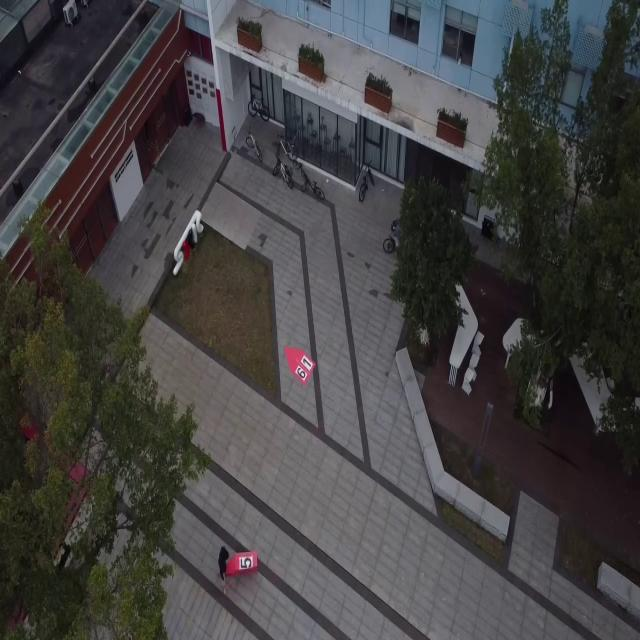-sign-: (284, 346, 316, 386), (225, 549, 259, 577)
